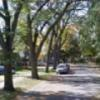cars: (55, 62, 70, 75)
